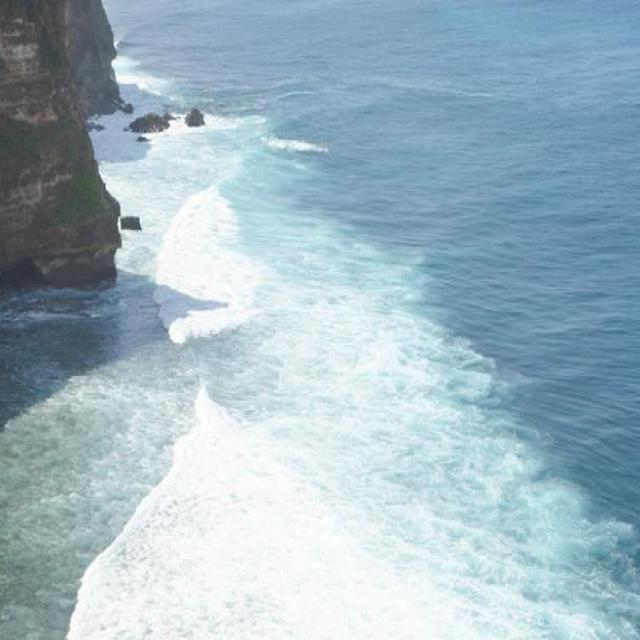reef: (100, 74, 213, 164)
